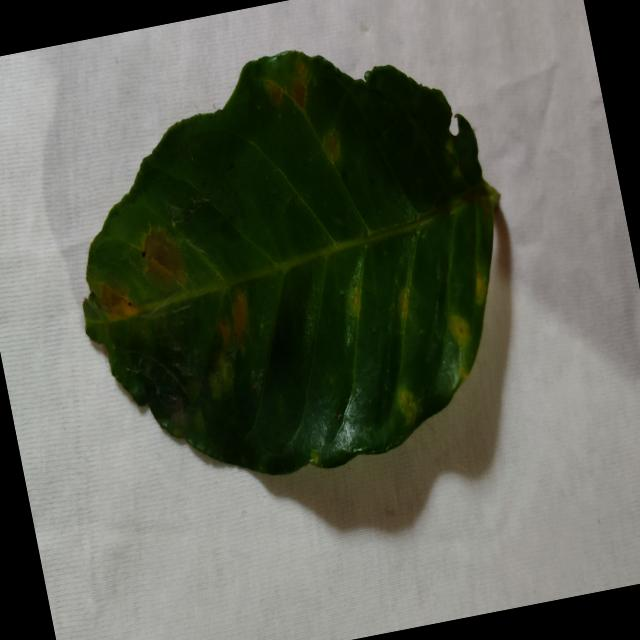KaratDaunKopi: (143, 229, 186, 288), (100, 284, 138, 316), (211, 351, 234, 391), (232, 289, 247, 347), (347, 266, 362, 322), (449, 313, 470, 347), (323, 128, 340, 163), (217, 318, 233, 350), (265, 79, 282, 107), (291, 76, 306, 107), (398, 287, 410, 324), (186, 378, 202, 402), (209, 373, 223, 399), (476, 272, 487, 304), (445, 139, 455, 155), (311, 449, 320, 465), (453, 165, 462, 178)
